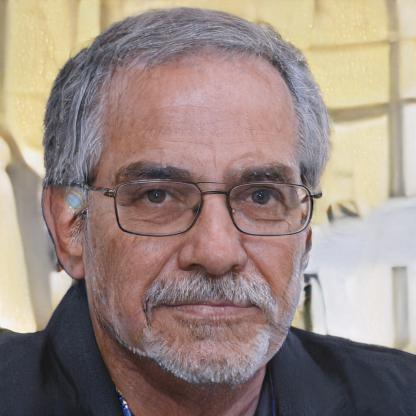glasses: (100, 175, 324, 245)
